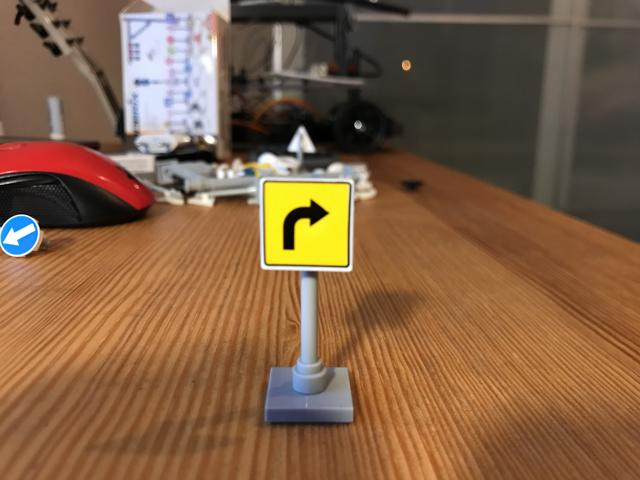fahrtrichtung rechts: (257, 178, 358, 272)
